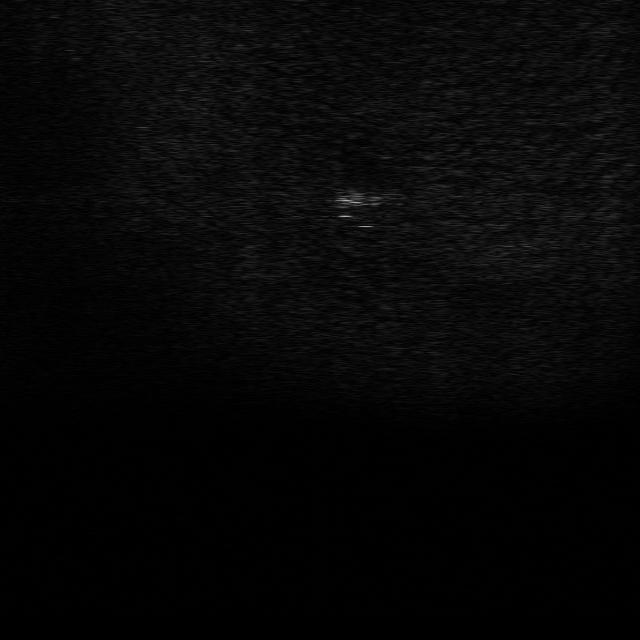plane: (328, 186, 392, 210)
